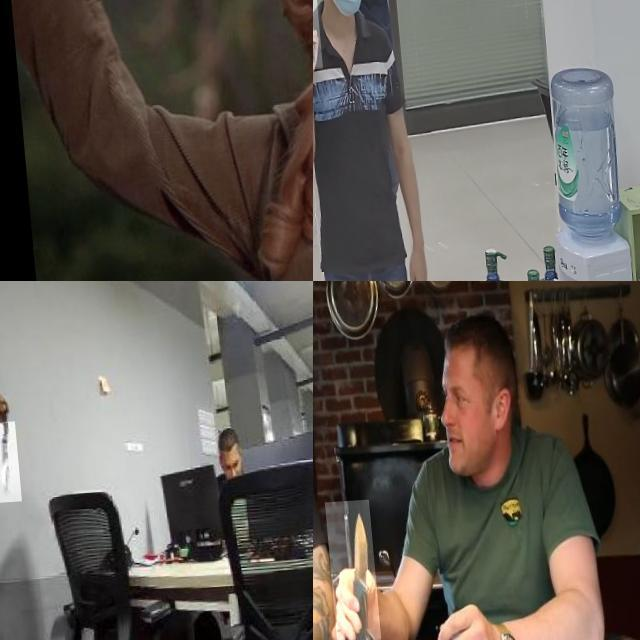-: (320, 504, 373, 640), (0, 425, 14, 506)
gun-knife-thesis - v11 Yolov5 augmented: (313, 0, 330, 74)
